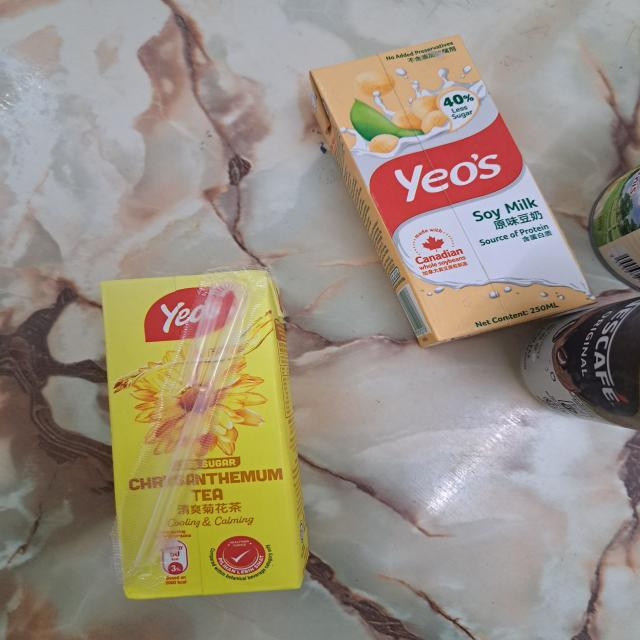drink carton: (309, 35, 597, 340), (96, 269, 310, 601)
